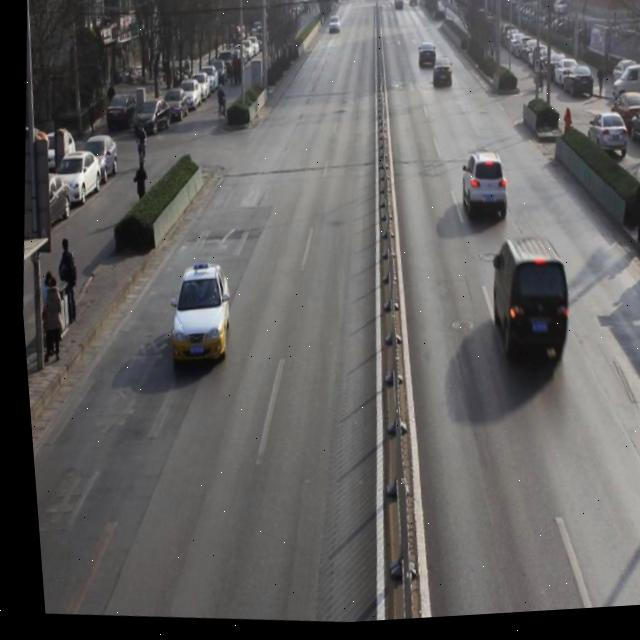car: (162, 263, 232, 373), (451, 152, 511, 232), (430, 61, 453, 96), (414, 46, 438, 79)
truck: (479, 235, 574, 376)
